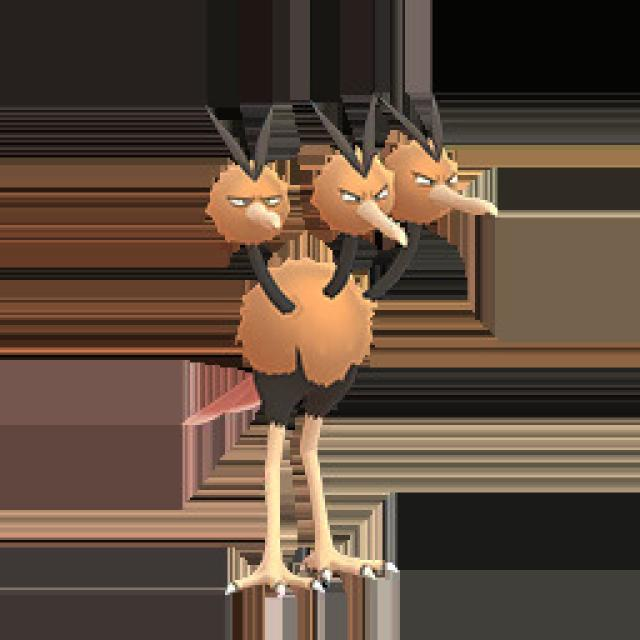Dodrio: (206, 89, 457, 596)
